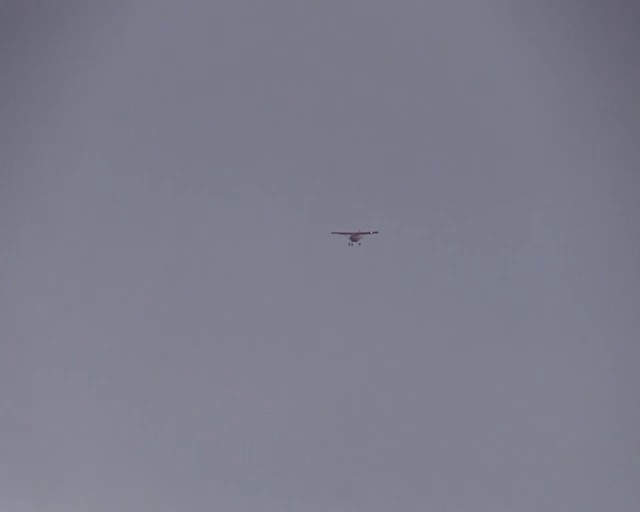AIRPLANE: (331, 229, 379, 246)
